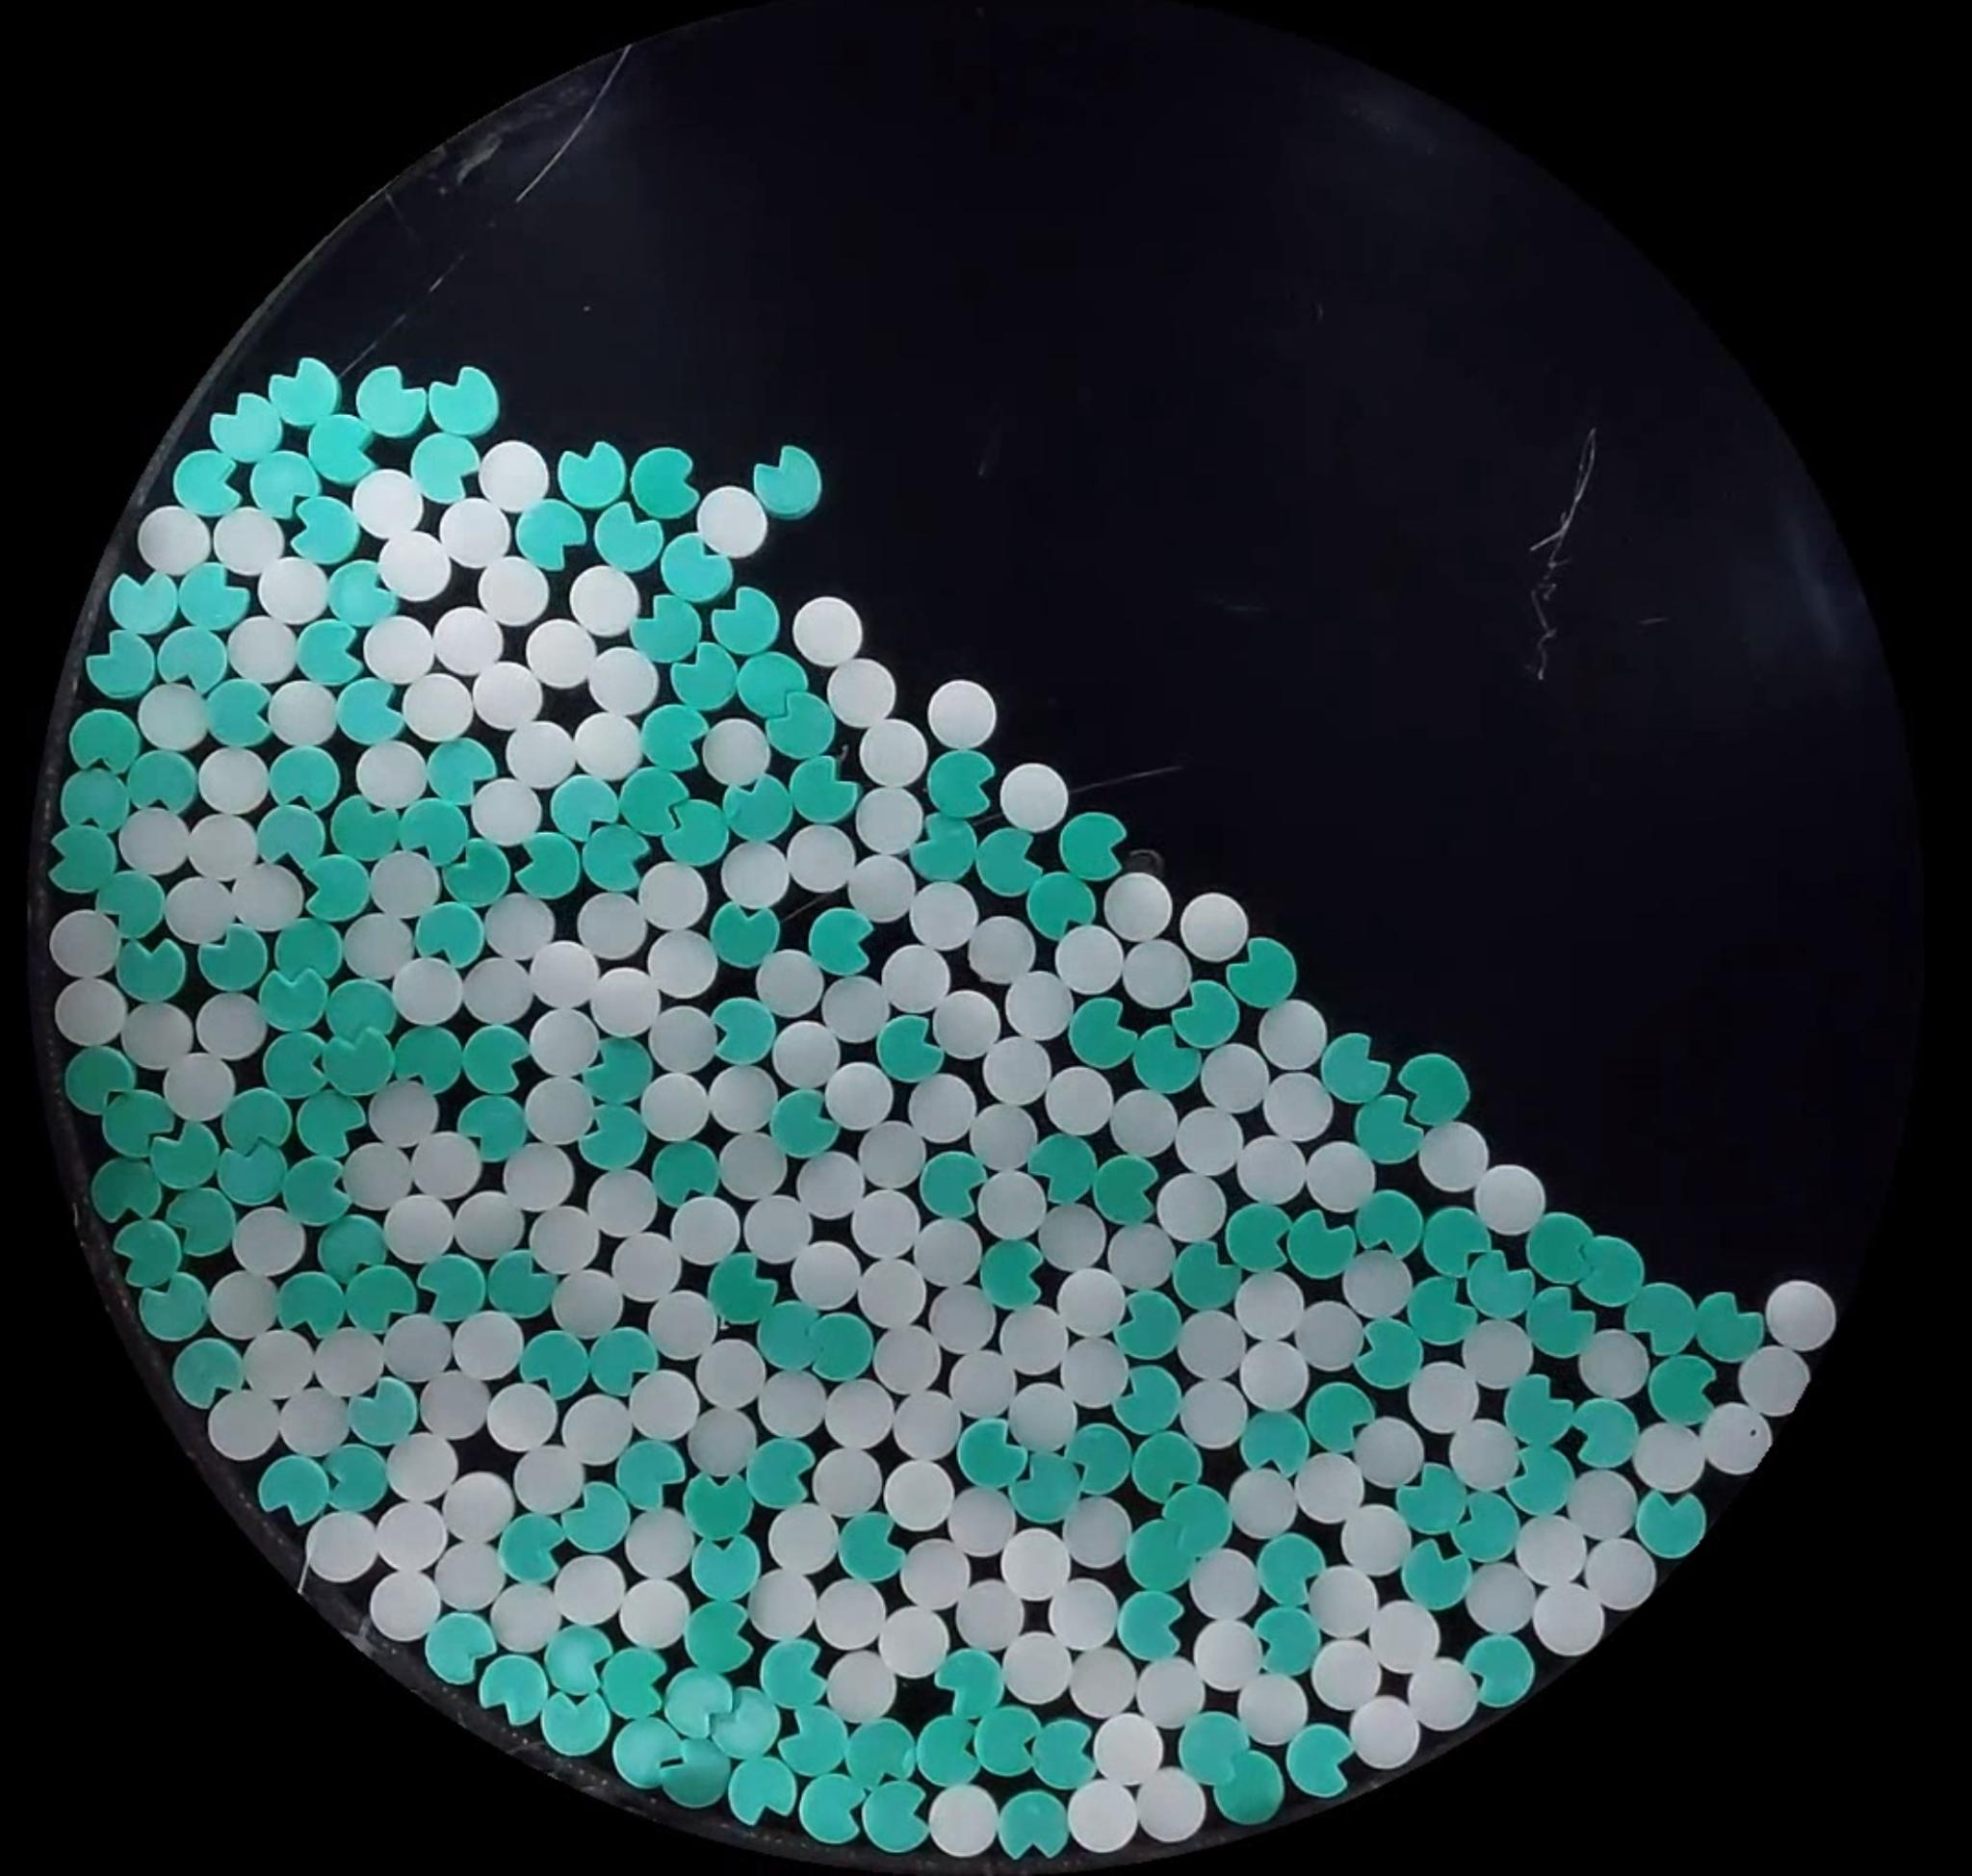no-convexa1: (245, 731, 357, 833), (46, 747, 139, 840), (681, 1587, 766, 1686), (1222, 1406, 1315, 1490), (275, 1154, 373, 1233), (1004, 1432, 1090, 1522), (974, 817, 1058, 907), (903, 1700, 984, 1793), (636, 691, 725, 773), (83, 1141, 173, 1224), (174, 553, 259, 639), (933, 1651, 1019, 1735), (1343, 1177, 1428, 1263), (278, 909, 361, 993), (1111, 1281, 1192, 1367), (1173, 1224, 1254, 1311), (1019, 1122, 1099, 1210), (1519, 1268, 1599, 1356), (335, 666, 414, 752), (1305, 1381, 1391, 1460), (1421, 1201, 1502, 1284), (778, 743, 863, 823), (1453, 1242, 1530, 1328), (750, 1291, 826, 1379), (329, 1023, 410, 1104), (1125, 1018, 1208, 1097), (708, 1680, 787, 1763), (1118, 1515, 1197, 1598), (90, 858, 167, 941), (836, 1705, 912, 1790), (579, 1041, 666, 1115), (296, 1080, 373, 1161), (1250, 1608, 1326, 1691), (324, 965, 408, 1039), (308, 1207, 393, 1281), (576, 1089, 650, 1171), (215, 1083, 294, 1159), (715, 770, 791, 849), (1393, 1457, 1463, 1541), (738, 643, 815, 719), (100, 1082, 178, 1157), (1497, 1369, 1574, 1444), (1579, 1222, 1648, 1307), (1227, 1193, 1294, 1279), (1333, 1029, 1400, 1115), (1056, 999, 1132, 1075), (218, 1134, 296, 1208), (331, 791, 408, 865), (283, 1268, 352, 1351), (1345, 1321, 1430, 1388), (426, 366, 502, 440), (259, 1025, 333, 1101), (489, 1245, 563, 1321), (151, 629, 229, 701), (463, 1090, 535, 1168), (907, 812, 979, 890), (477, 1652, 551, 1726), (460, 1022, 533, 1096), (1074, 1414, 1137, 1501), (424, 1610, 497, 1686), (710, 999, 787, 1069), (556, 775, 625, 854), (614, 1437, 687, 1511), (164, 1185, 238, 1258), (393, 1023, 467, 1096), (1625, 1281, 1697, 1355), (1225, 937, 1299, 1009), (85, 629, 157, 703), (1213, 1753, 1285, 1827), (255, 1453, 331, 1524), (708, 1251, 778, 1326), (655, 1737, 731, 1807), (632, 587, 699, 666), (650, 1138, 722, 1210), (48, 823, 120, 895), (116, 934, 188, 1006), (171, 1337, 243, 1409), (1463, 1633, 1535, 1705), (1398, 1052, 1470, 1124), (613, 1717, 685, 1790), (306, 414, 379, 486), (268, 356, 340, 428), (357, 366, 430, 439), (107, 565, 180, 638), (412, 1251, 484, 1323), (345, 1263, 419, 1333), (63, 1043, 137, 1113), (560, 1480, 630, 1554), (519, 1328, 590, 1402), (1285, 1725, 1356, 1798), (67, 706, 141, 777), (752, 446, 822, 520), (1259, 1541, 1333, 1612), (1162, 1485, 1231, 1561), (137, 1272, 210, 1342), (585, 1326, 657, 1397), (593, 502, 666, 572), (725, 1756, 796, 1828), (1130, 1429, 1201, 1501), (257, 964, 329, 1034), (778, 1705, 850, 1776), (662, 534, 734, 604), (1527, 1212, 1597, 1284), (708, 587, 780, 657), (688, 1531, 759, 1603), (1636, 1487, 1708, 1557), (1646, 1351, 1717, 1423), (1694, 1291, 1764, 1363), (289, 495, 361, 565), (544, 1624, 613, 1698), (345, 1379, 419, 1448), (630, 446, 699, 520), (113, 1219, 183, 1289), (859, 1783, 930, 1853), (997, 1790, 1067, 1860), (301, 853, 372, 923), (414, 900, 484, 971), (1402, 1540, 1472, 1610), (1567, 1399, 1637, 1469), (440, 838, 511, 909), (958, 1420, 1028, 1490), (685, 1473, 755, 1543), (1180, 1712, 1248, 1784), (255, 801, 327, 870), (125, 747, 197, 816), (600, 1647, 669, 1719), (662, 1668, 734, 1737), (497, 1511, 565, 1584), (187, 666, 259, 735), (148, 1124, 222, 1191), (208, 398, 282, 465), (1453, 1488, 1519, 1562), (1505, 1443, 1572, 1517), (1116, 1589, 1185, 1659), (766, 691, 836, 759), (620, 768, 690, 837), (710, 900, 780, 969), (806, 905, 875, 976), (512, 831, 583, 900), (979, 1238, 1048, 1309), (294, 617, 364, 685), (796, 1772, 865, 1843), (424, 738, 495, 807), (558, 440, 629, 509), (326, 560, 396, 629), (410, 432, 481, 500), (514, 500, 586, 567), (745, 1437, 813, 1506), (836, 1511, 905, 1580), (541, 1689, 609, 1758), (875, 1015, 944, 1083), (659, 800, 729, 867), (400, 798, 470, 865), (197, 927, 268, 993), (171, 451, 241, 518), (759, 1640, 826, 1709), (926, 749, 995, 816), (769, 1092, 838, 1159), (919, 1150, 986, 1219), (806, 1311, 873, 1379), (320, 1444, 389, 1511), (248, 453, 319, 518), (581, 824, 648, 891), (1026, 872, 1093, 939), (1093, 1156, 1159, 1224), (1171, 985, 1240, 1050), (1058, 812, 1127, 877), (861, 1781, 926, 1850), (1294, 1210, 1352, 1286), (974, 1709, 1039, 1776), (1365, 1108, 1431, 1173), (1414, 1272, 1470, 1348), (810, 1314, 873, 1381), (1122, 1365, 1181, 1436), (1032, 1725, 1095, 1790), (671, 641, 731, 706)
